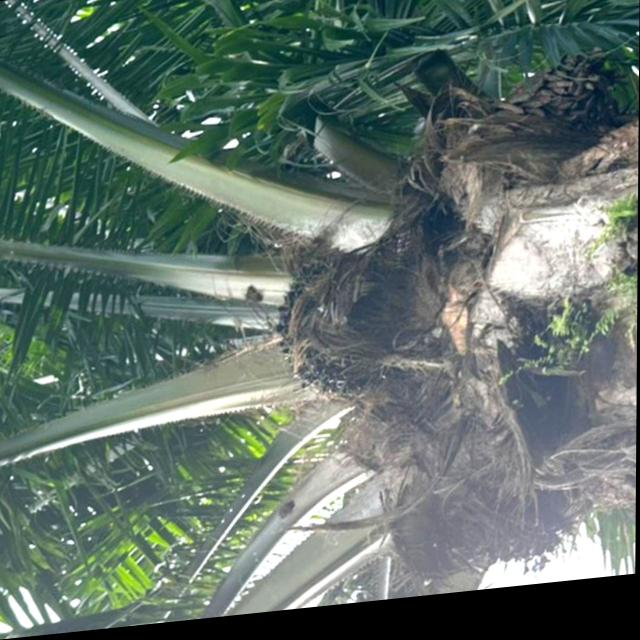unripe: (268, 234, 427, 411)
